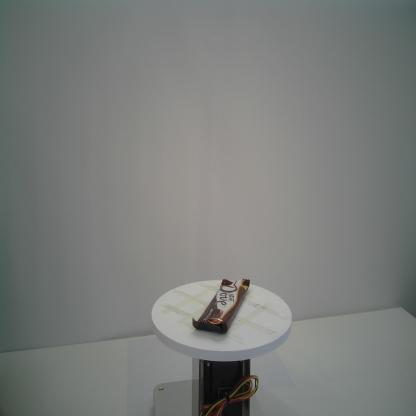Chocolate: (192, 277, 251, 334)
